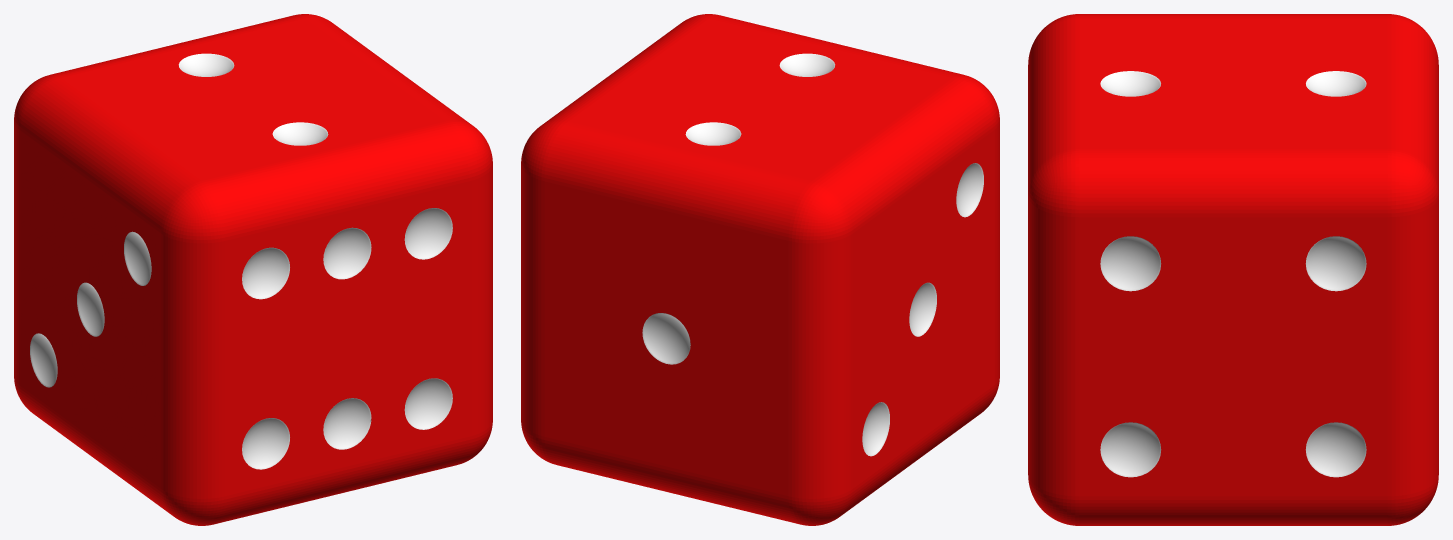
The model's file is dice_red.fbx.
3 views of the same model, side by side, from view 1: azimuth 30°, elevation 25°; view 2: azimuth 150°, elevation 25°; view 3: azimuth 270°, elevation 25° (orthographic). The views are drawn at different scales.
Visible parts, largest first — view 1: Cube; view 2: Cube; view 3: Cube.
Boxes of the visible parts, x1,y1,x2,y2 form: Cube: [14, 14, 492, 525]; Cube: [521, 14, 999, 525]; Cube: [1028, 14, 1438, 525].
Bounding box in the file's own units: 200 × 200 × 200.
